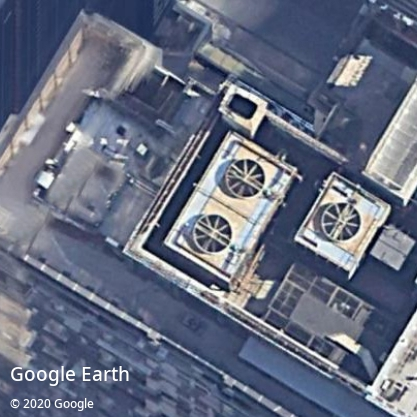Vent: (226, 159, 266, 199), (322, 202, 361, 241), (194, 215, 232, 253)
